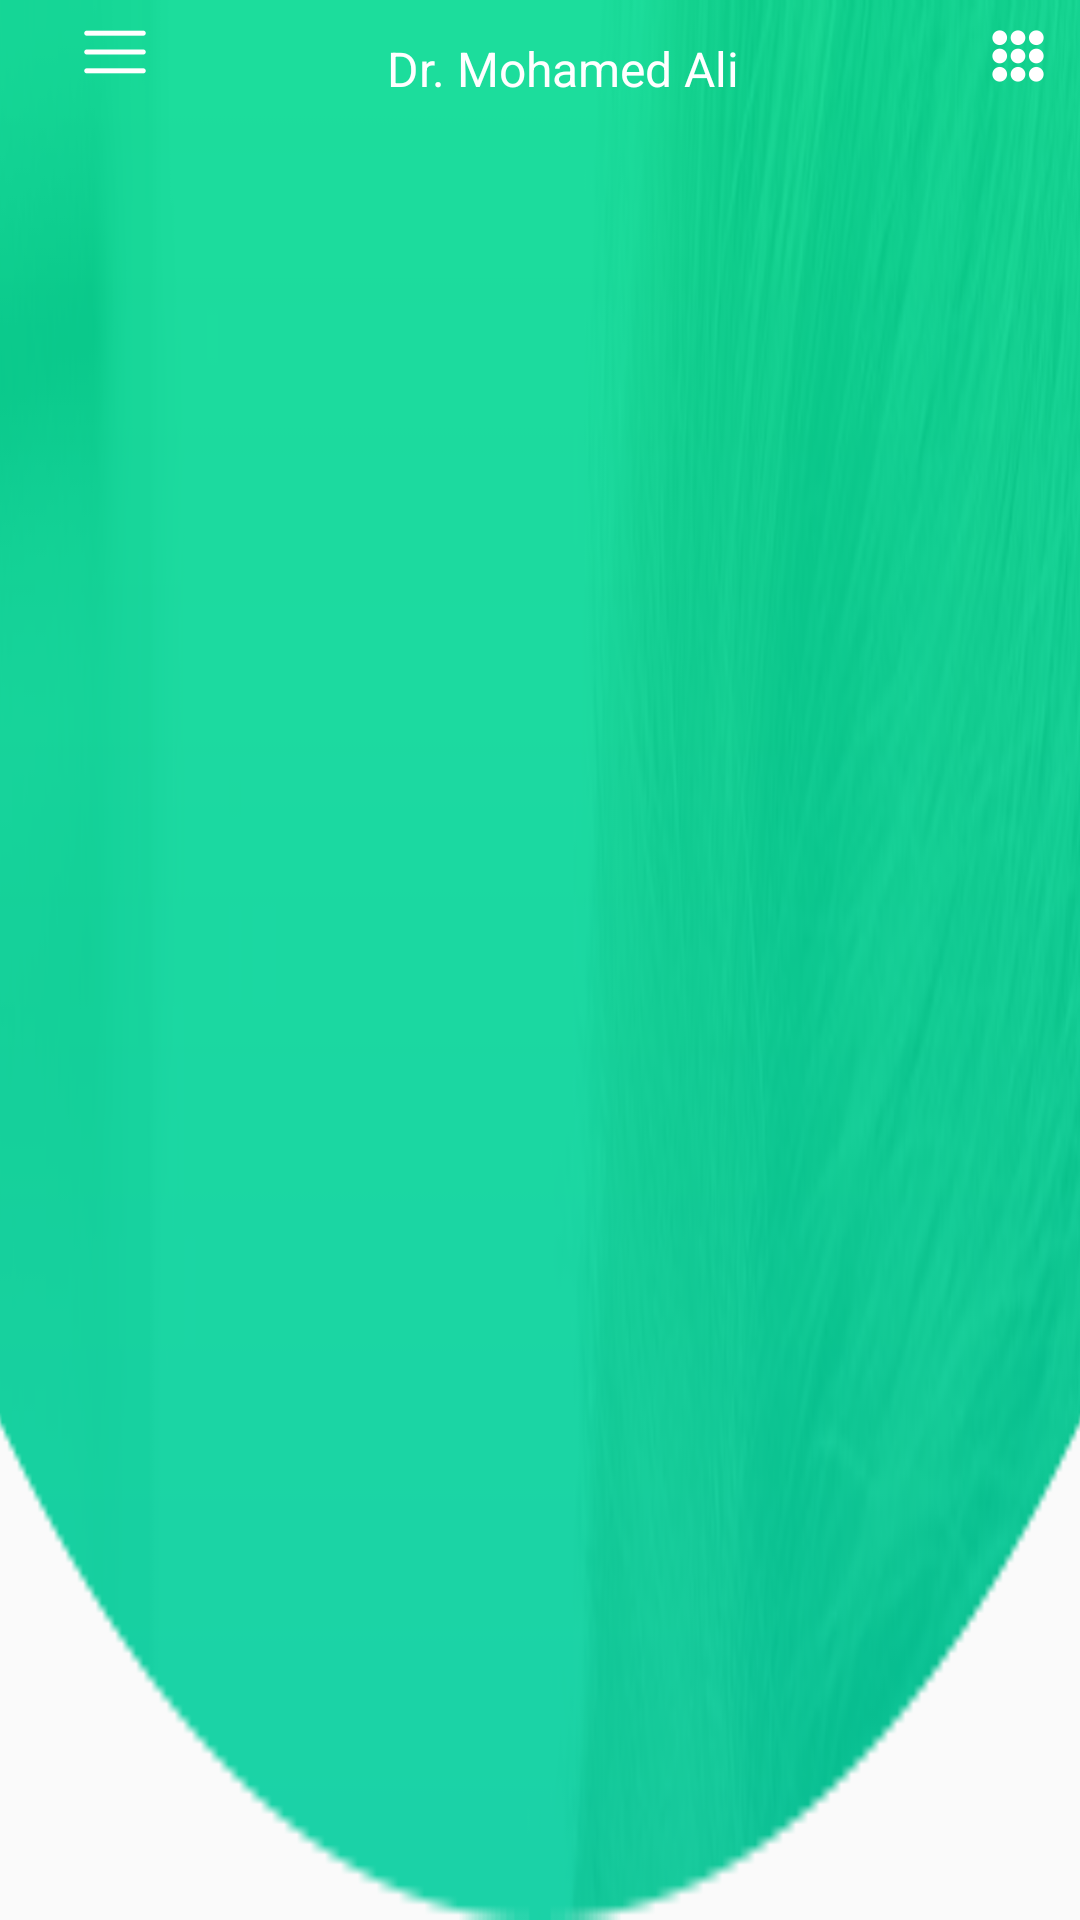

Named icons in this screenshot (1080x1920) and their centers, [x,y]:
menu: [115,52], [1018,56]
